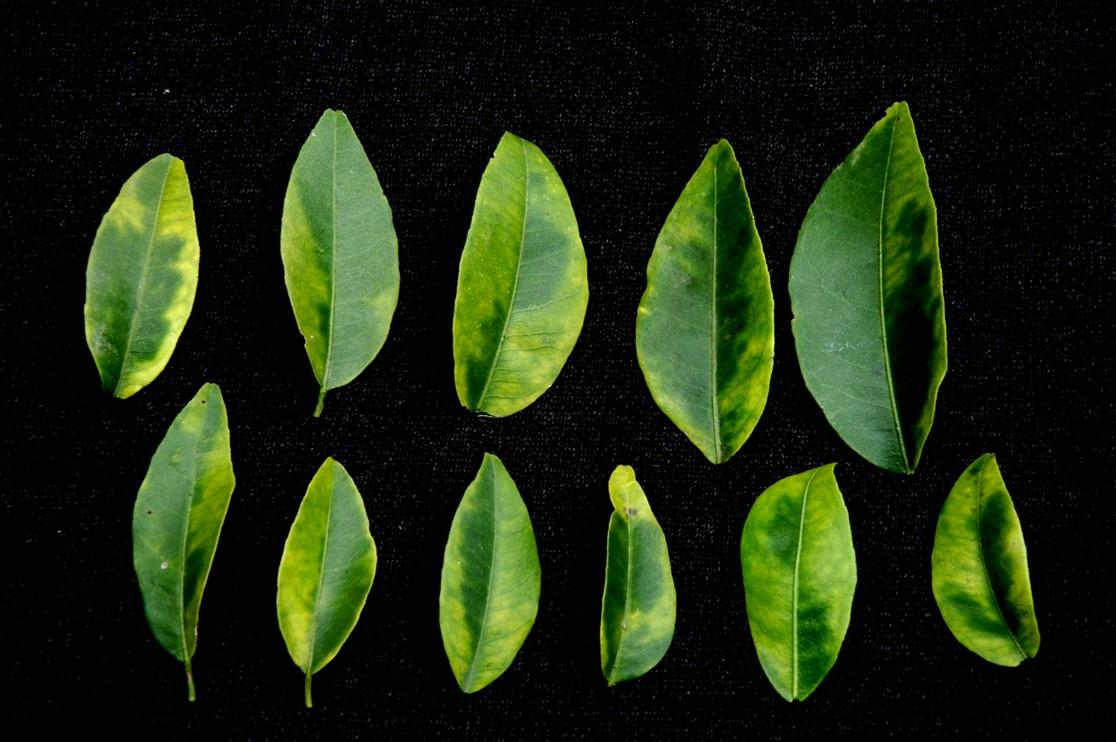Citrus Greening: (783, 89, 957, 477), (632, 130, 782, 465), (454, 127, 592, 420), (277, 102, 405, 417), (127, 379, 240, 705), (737, 454, 864, 705), (82, 147, 205, 404), (924, 447, 1049, 667), (434, 449, 544, 697), (275, 454, 382, 707), (595, 459, 682, 684)
